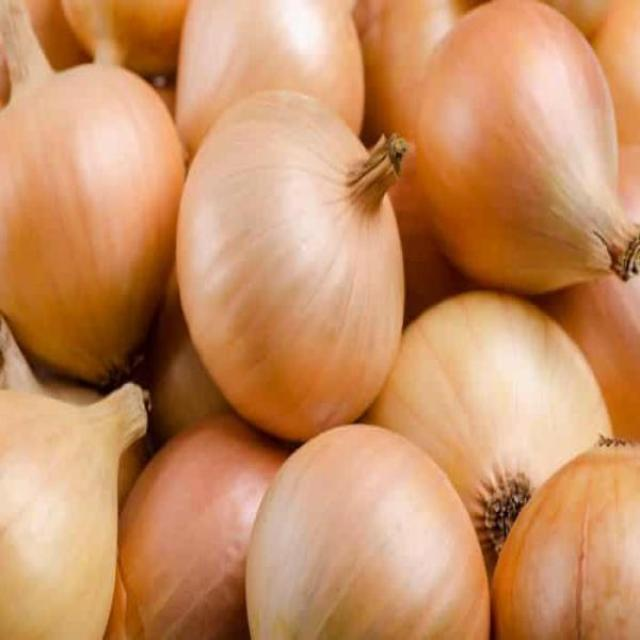Onion: (173, 85, 415, 447)
